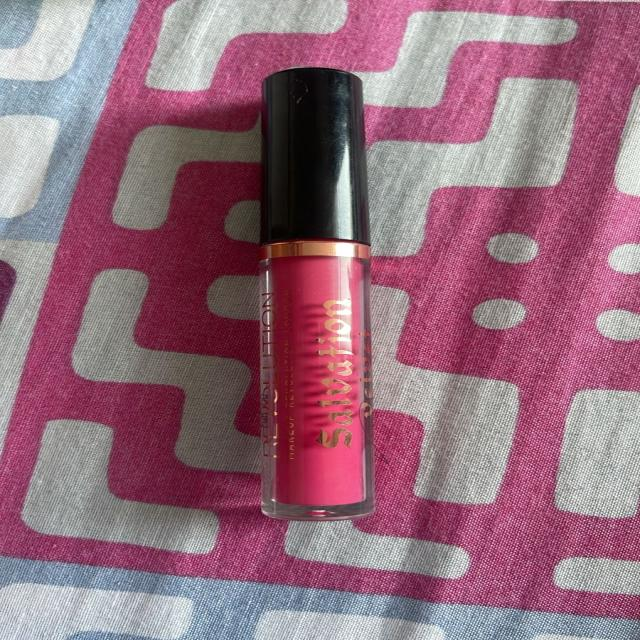lip gloss: (222, 47, 415, 530)
